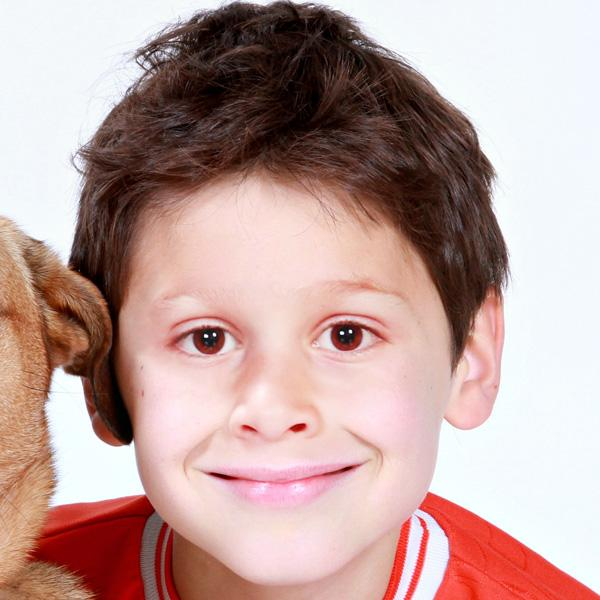Eyes: (297, 306, 395, 368), (159, 308, 249, 366)
